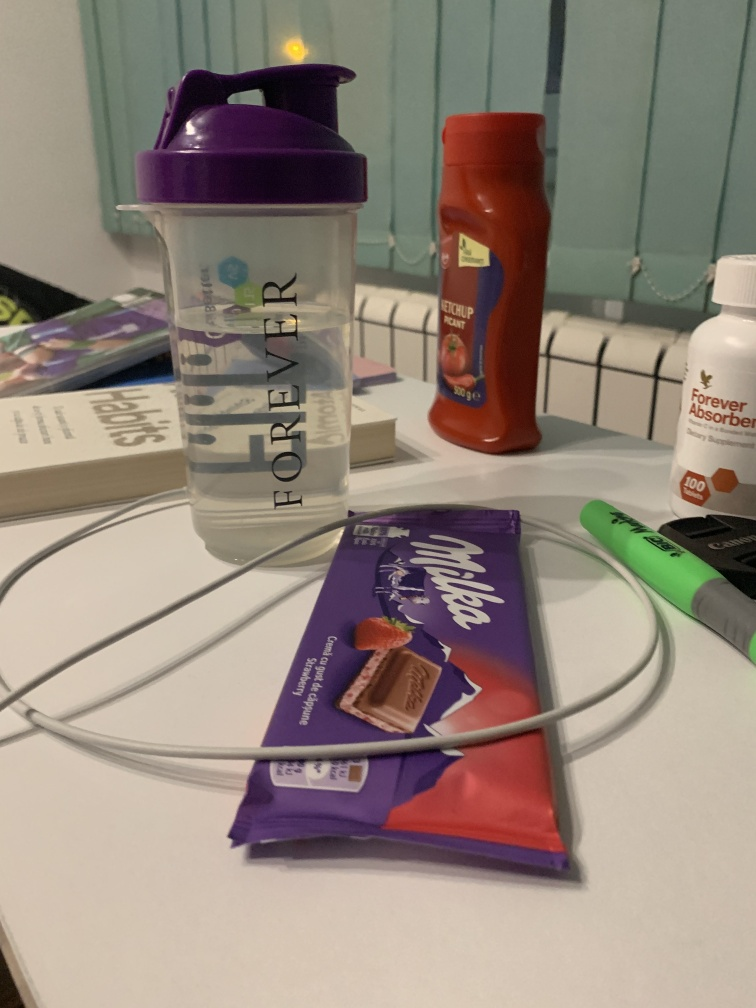ketchup: (421, 106, 561, 466)
milka: (215, 500, 580, 904)
